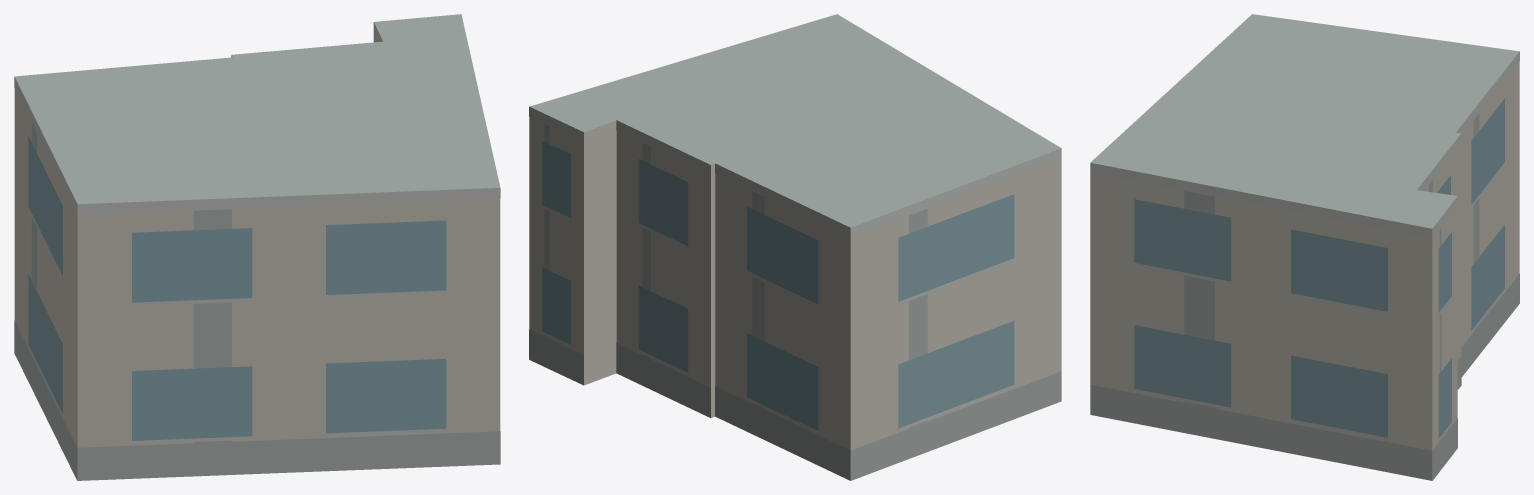
File: residential-6f475376-7ace-42fe-b99f-ab6462e34fd4.glb
3 views of the same model, side by side, from view 1: azimuth 30°, elevation 25°; view 2: azimuth 150°, elevation 25°; view 3: azimuth 270°, elevation 25° (orthographic). The views are drawn at different scales.
Visible parts, largest first — view 1: residential-6f475376-7ace-42fe-b99f-ab6462e34fd4.tmp; view 2: residential-6f475376-7ace-42fe-b99f-ab6462e34fd4.tmp; view 3: residential-6f475376-7ace-42fe-b99f-ab6462e34fd4.tmp.
Part boxes in pixels (x1=…): residential-6f475376-7ace-42fe-b99f-ab6462e34fd4.tmp: x1=14, y1=14, x2=500, y2=480; residential-6f475376-7ace-42fe-b99f-ab6462e34fd4.tmp: x1=529, y1=14, x2=1061, y2=480; residential-6f475376-7ace-42fe-b99f-ab6462e34fd4.tmp: x1=1090, y1=14, x2=1519, y2=480.
Size of the model in its own units: 11.15 by 6.1 by 9.43.
